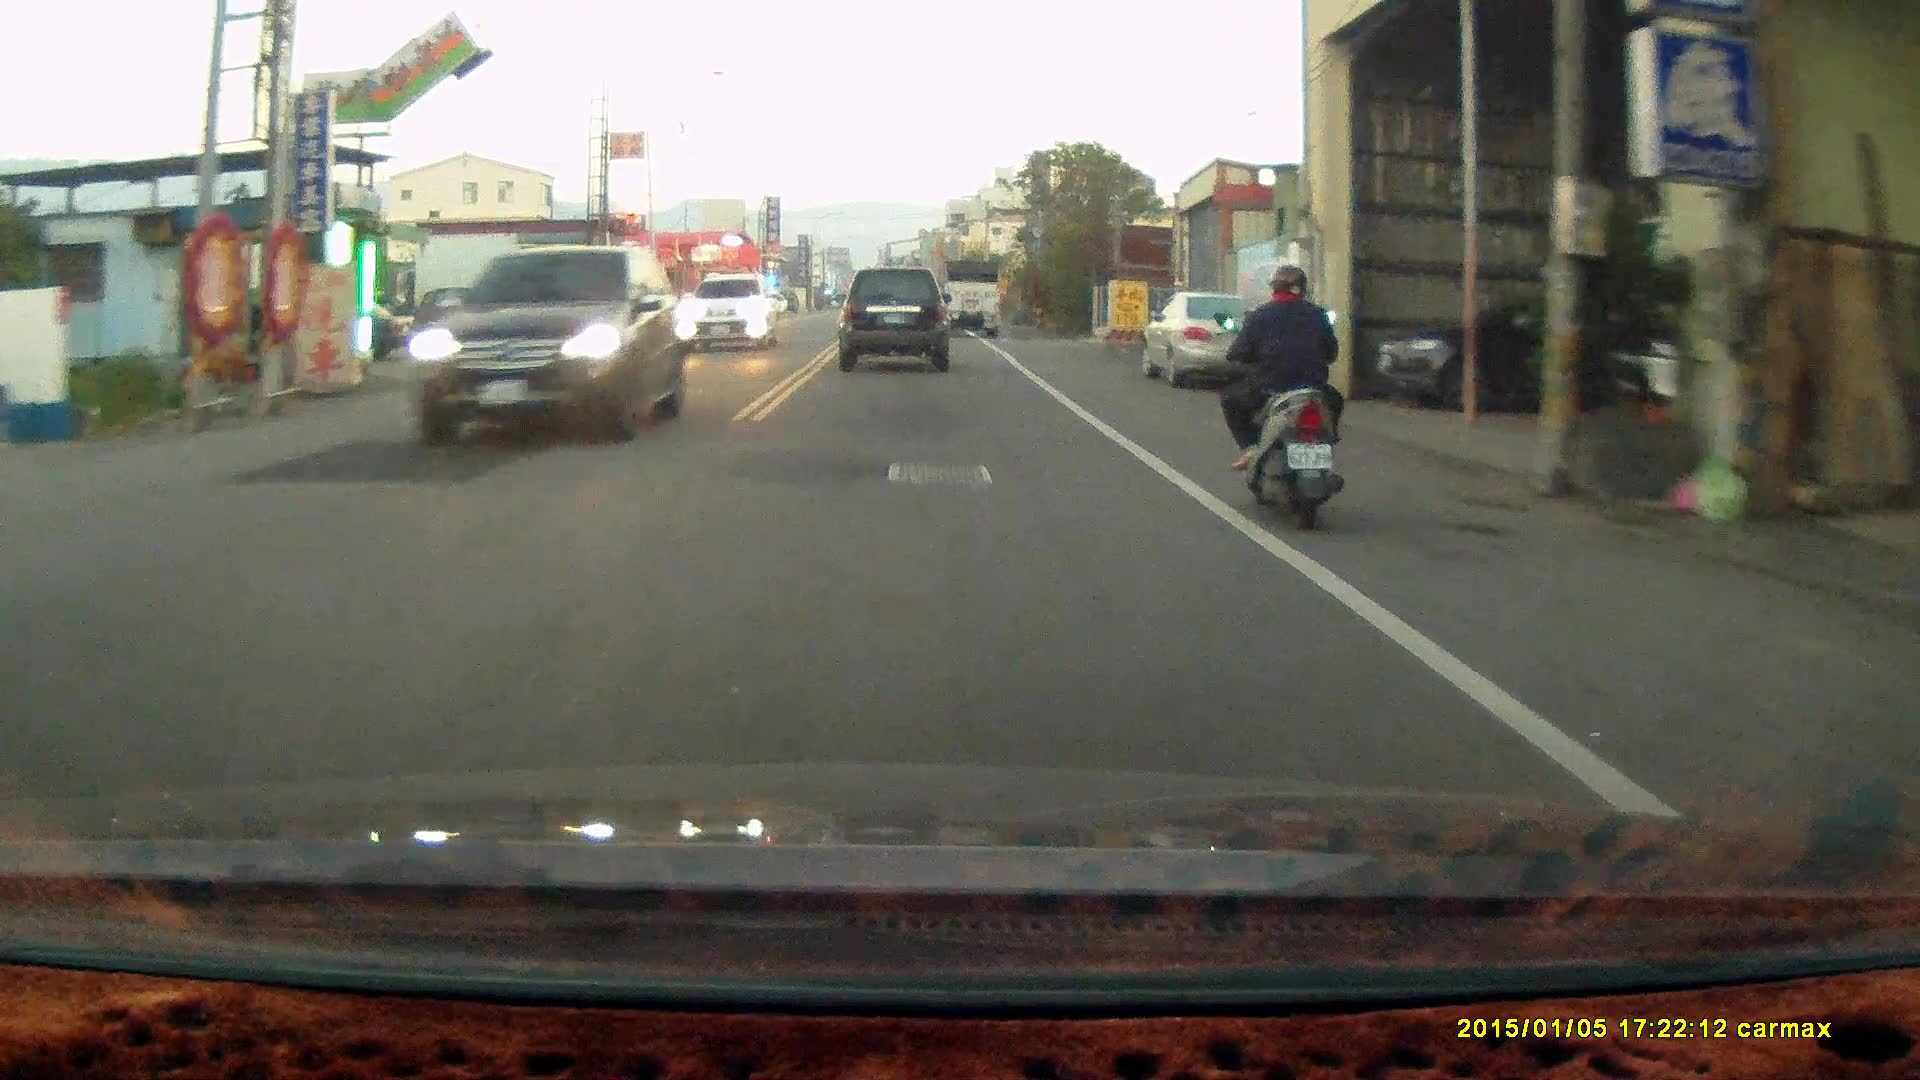rider: (1208, 260, 1344, 530)
vehicle: (408, 244, 687, 441), (1373, 296, 1635, 413), (1143, 290, 1287, 392), (840, 266, 955, 374), (680, 276, 783, 357), (932, 260, 1003, 339)
